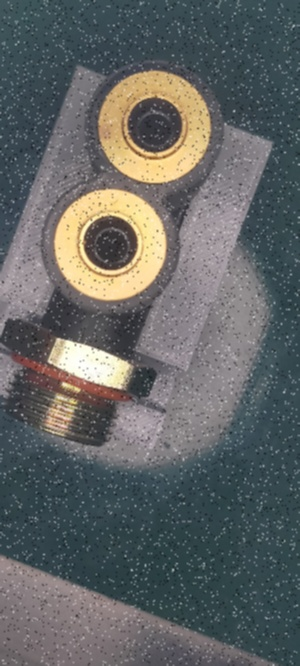craze: (78, 327, 89, 343)
